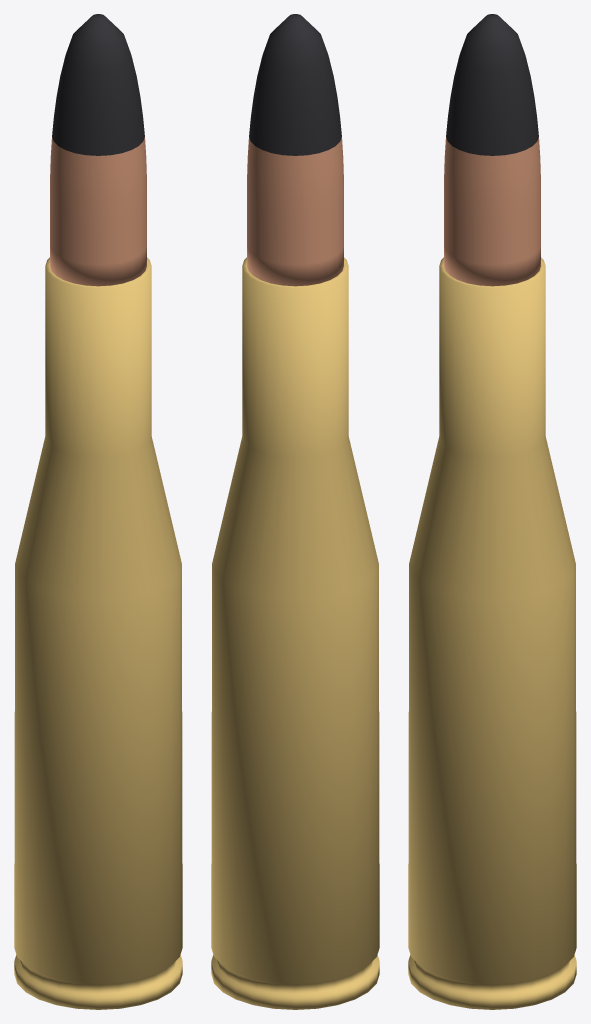
3 renders of one model, left to right at view 1: azimuth 30°, elevation 25°; view 2: azimuth 150°, elevation 25°; view 3: azimuth 270°, elevation 25°, orthographic.
Parts seen in each view (by area): view 1: vaina, bala_cuerpo, punta; view 2: vaina, bala_cuerpo, punta; view 3: vaina, bala_cuerpo, punta.
Boxes of the visible parts, box(x1,y1,x2,y2) form: vaina: box(14, 257, 182, 1009); bala_cuerpo: box(50, 137, 146, 286); punta: box(52, 14, 144, 155); vaina: box(211, 257, 379, 1009); bala_cuerpo: box(247, 137, 343, 286); punta: box(249, 14, 341, 155); vaina: box(408, 257, 576, 1009); bala_cuerpo: box(444, 137, 540, 286); punta: box(446, 14, 538, 155).
Bounding box in the file's own units: 0.0149 × 0.0935 × 0.0149.
